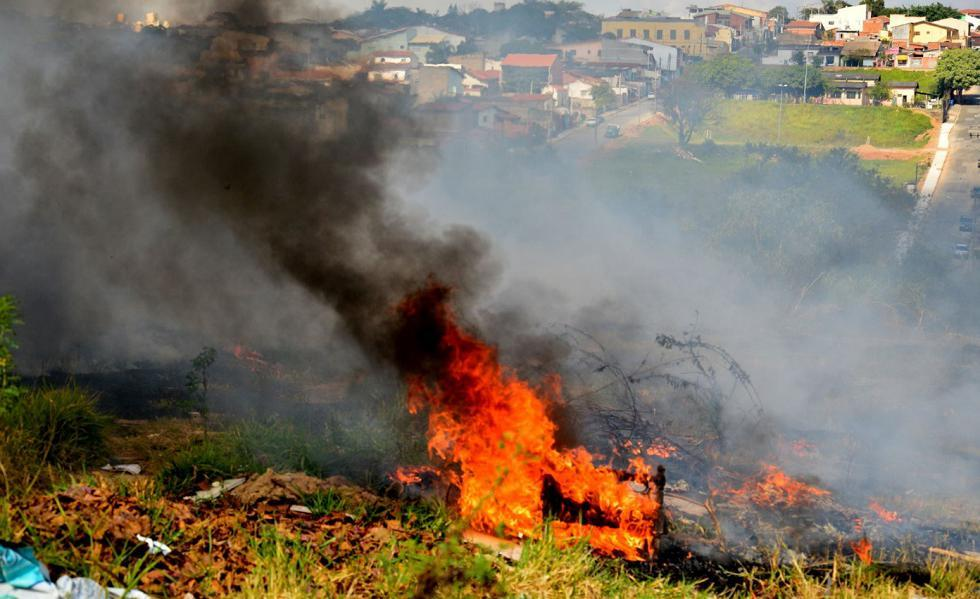Fire: (388, 332, 682, 561), (726, 455, 842, 509), (639, 429, 687, 465), (847, 537, 877, 570), (860, 504, 910, 521)
